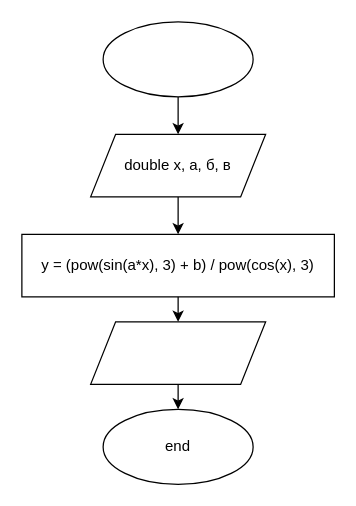
Some shapes in this 356 by 506 pixel diagram are drawn without their labels. The shapes that lost their labels are listed below. From the top down, each one's centre as x and y in pixels, then its label:
[177,59]: begin
[177,352]: echo х, а, б, в
